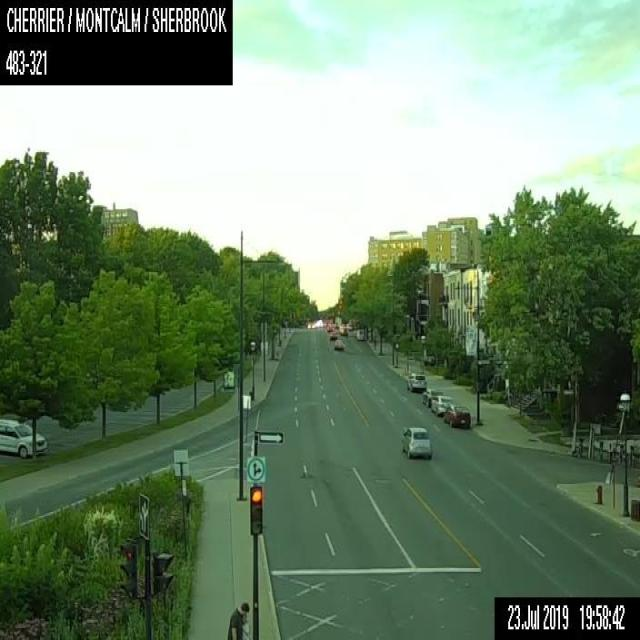pedestrian: (226, 601, 248, 639), (240, 612, 249, 638)
vehicle: (0, 417, 46, 457), (401, 425, 432, 459), (442, 403, 471, 428), (431, 394, 451, 416), (407, 371, 426, 391), (422, 388, 442, 406), (334, 338, 344, 349), (339, 323, 348, 335), (355, 328, 364, 340), (329, 331, 336, 339), (307, 321, 314, 328), (327, 323, 333, 331), (346, 322, 352, 329)
